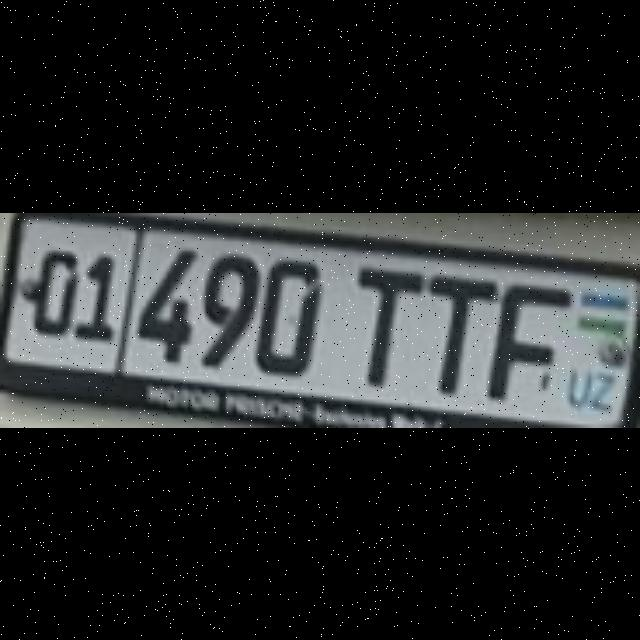0: (254, 253, 312, 364), (28, 244, 72, 330)
1: (69, 250, 111, 334)
4: (132, 243, 192, 354)
9: (194, 246, 253, 358)
F: (483, 278, 563, 392)
T: (421, 268, 491, 390), (351, 261, 417, 383)
